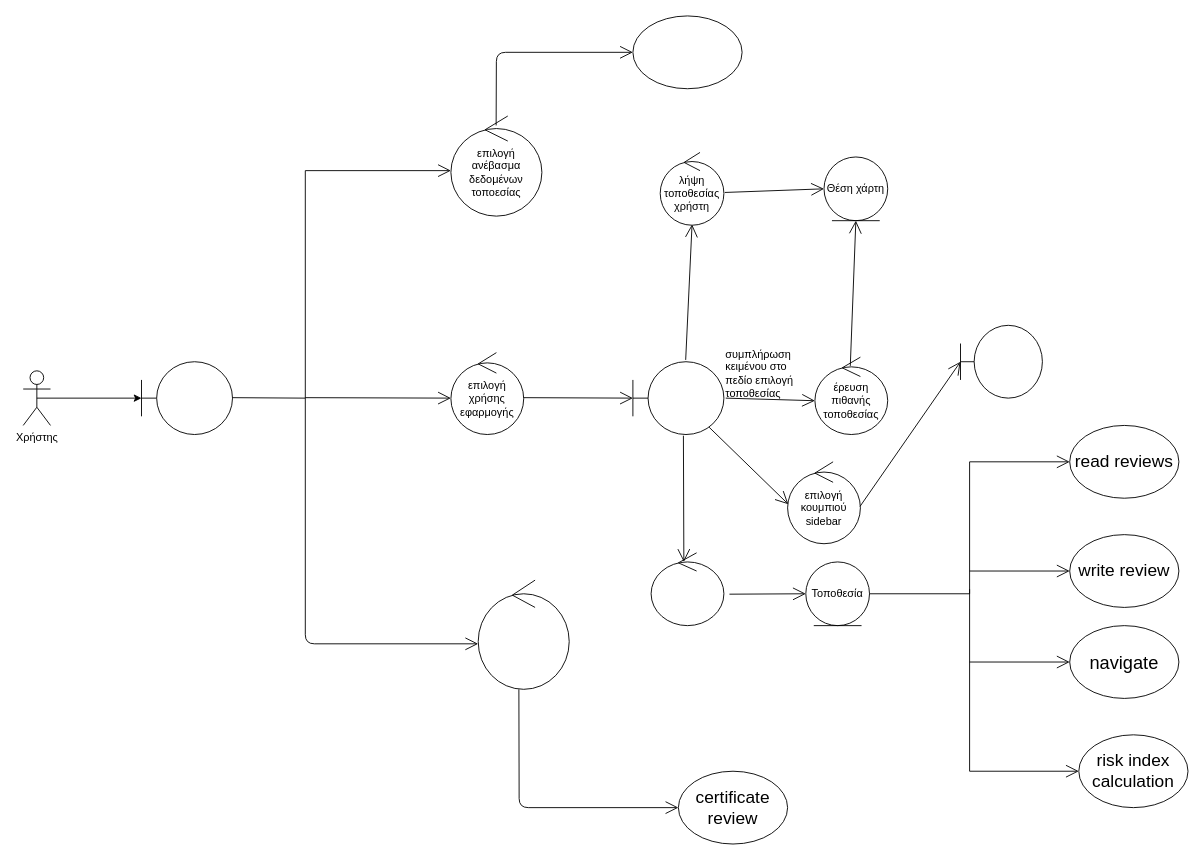
Some shapes in this 1204 by 860 pixel diagram are drawn without their labels. The shapes that lost their labels are listed below. From the top down, each one's centre as x and y in pixels, then its label:
(687,52): upload data
(1001,361): Οθόνη sidebar
(187,398): Αρχική οθόνη
(678,398): Οθόνη heatmap
(687,589): επιλογή τοποθεσίας
(523,634): επιλογή αξιολόγηση πιστοποιητικών ασθένειας
